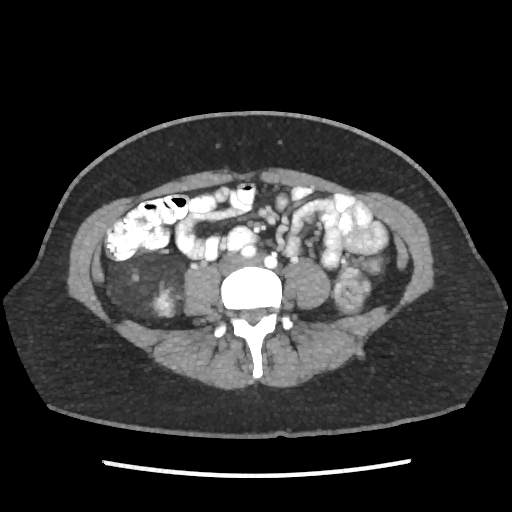Lesion: (101, 254, 189, 318)
